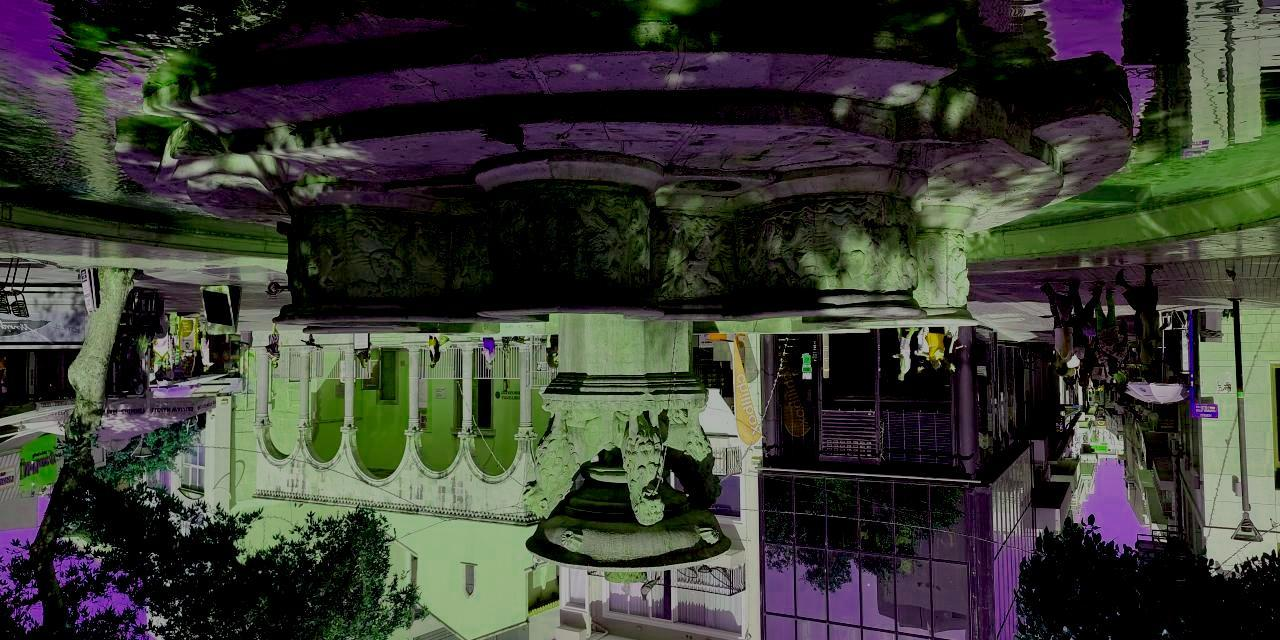Liontaria: (274, 153, 983, 582)
